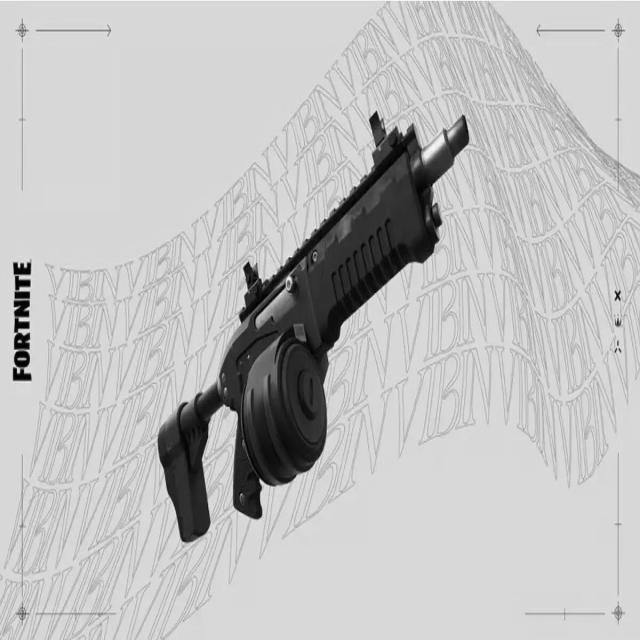Sub-machine-gun: (156, 74, 502, 567)
